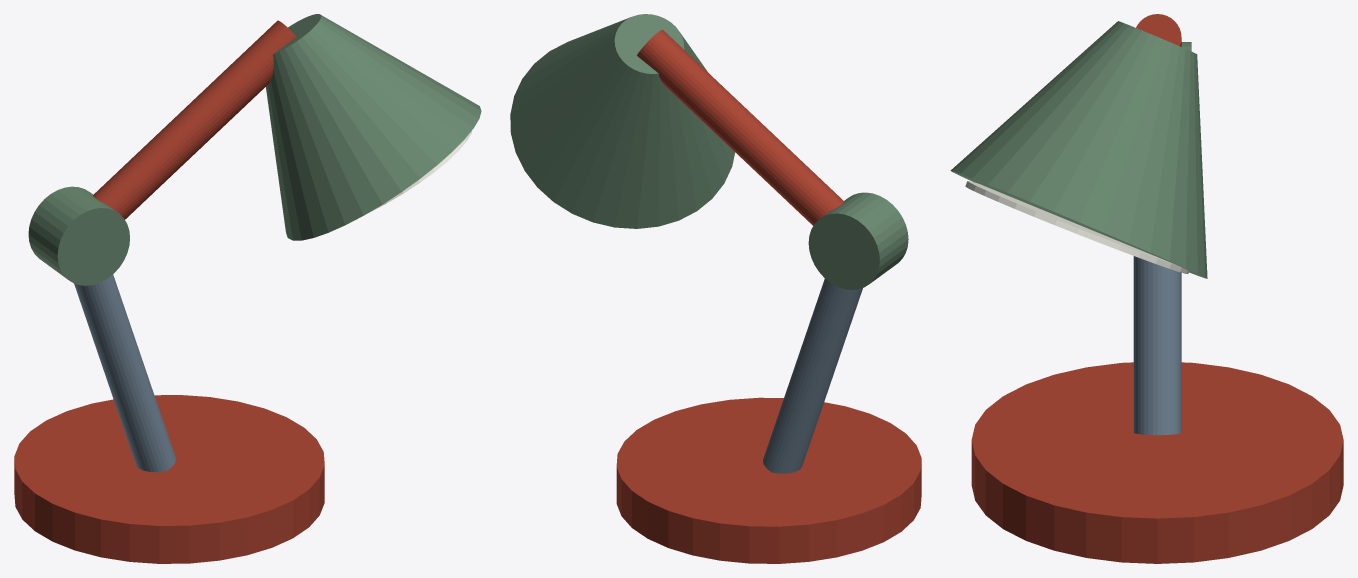
The model's file is lamp.glb.
3 views of the same model, side by side, from view 1: azimuth 30°, elevation 25°; view 2: azimuth 150°, elevation 25°; view 3: azimuth 270°, elevation 25° (orthographic). The views are drawn at different scales.
Visible parts, largest first — view 1: base, shade, upper arm, lower arm, joint; view 2: base, shade, upper arm, lower arm, joint; view 3: base, shade, lower arm, diffuser, upper arm.
Boxes of the visible parts, box(x1,y1,x2,y2) form: base: box(14, 395, 324, 563); shade: box(266, 14, 481, 240); upper arm: box(93, 20, 296, 219); lower arm: box(74, 274, 175, 472); joint: box(28, 186, 129, 285); base: box(616, 397, 921, 563); shade: box(510, 14, 735, 228); upper arm: box(637, 29, 844, 225); lower arm: box(763, 278, 862, 473); joint: box(808, 192, 908, 289); base: box(971, 362, 1343, 563); shade: box(950, 21, 1207, 278); lower arm: box(1133, 256, 1181, 435); diffuser: box(965, 181, 1189, 273); upper arm: box(1136, 14, 1181, 46).
Bounding box in the file's own units: 1.58 × 1.67 × 1.1.
